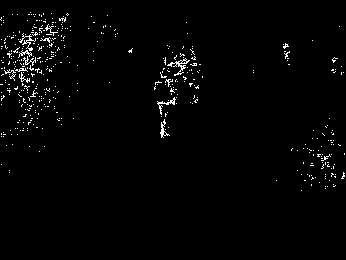person: (152, 68, 177, 139)
